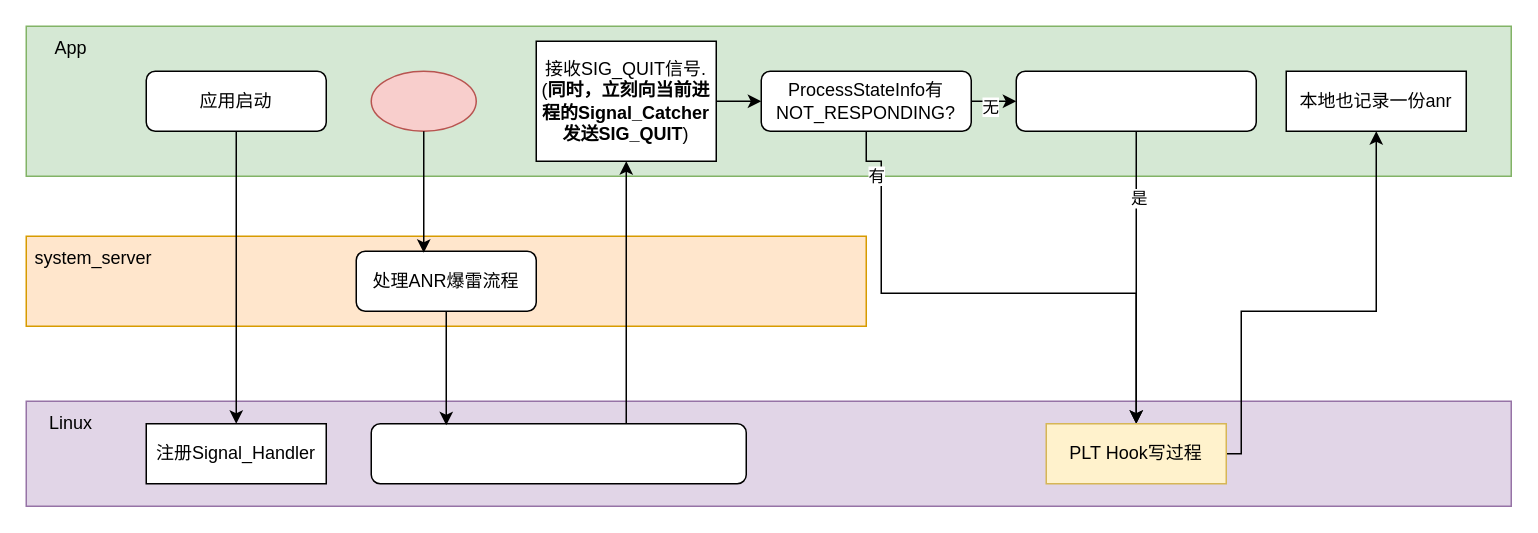
This 1538x533 diagram has some shape labels left out. Here are the shapes that lost their labels. From the top down, the centre of each, then its label:
At point (423, 100): "发生ANR".
At point (1135, 100): "20s内间隔500ms轮询 判断主线程是否阻塞".
At point (558, 453): "执行dump， 发送SIG_QUIT信号".
